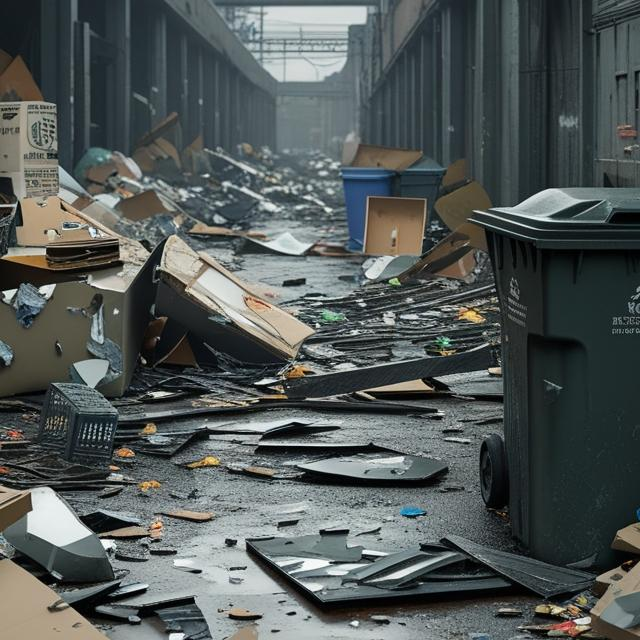plastic: (473, 195, 640, 538)
